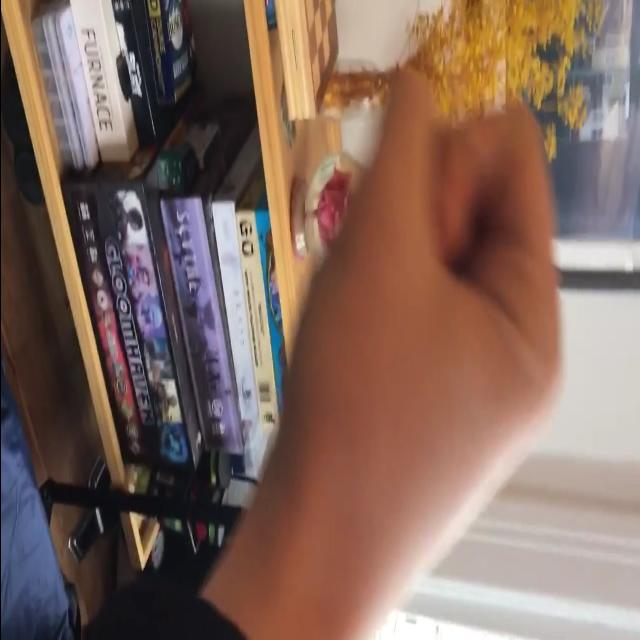Rock: (267, 75, 566, 578)
